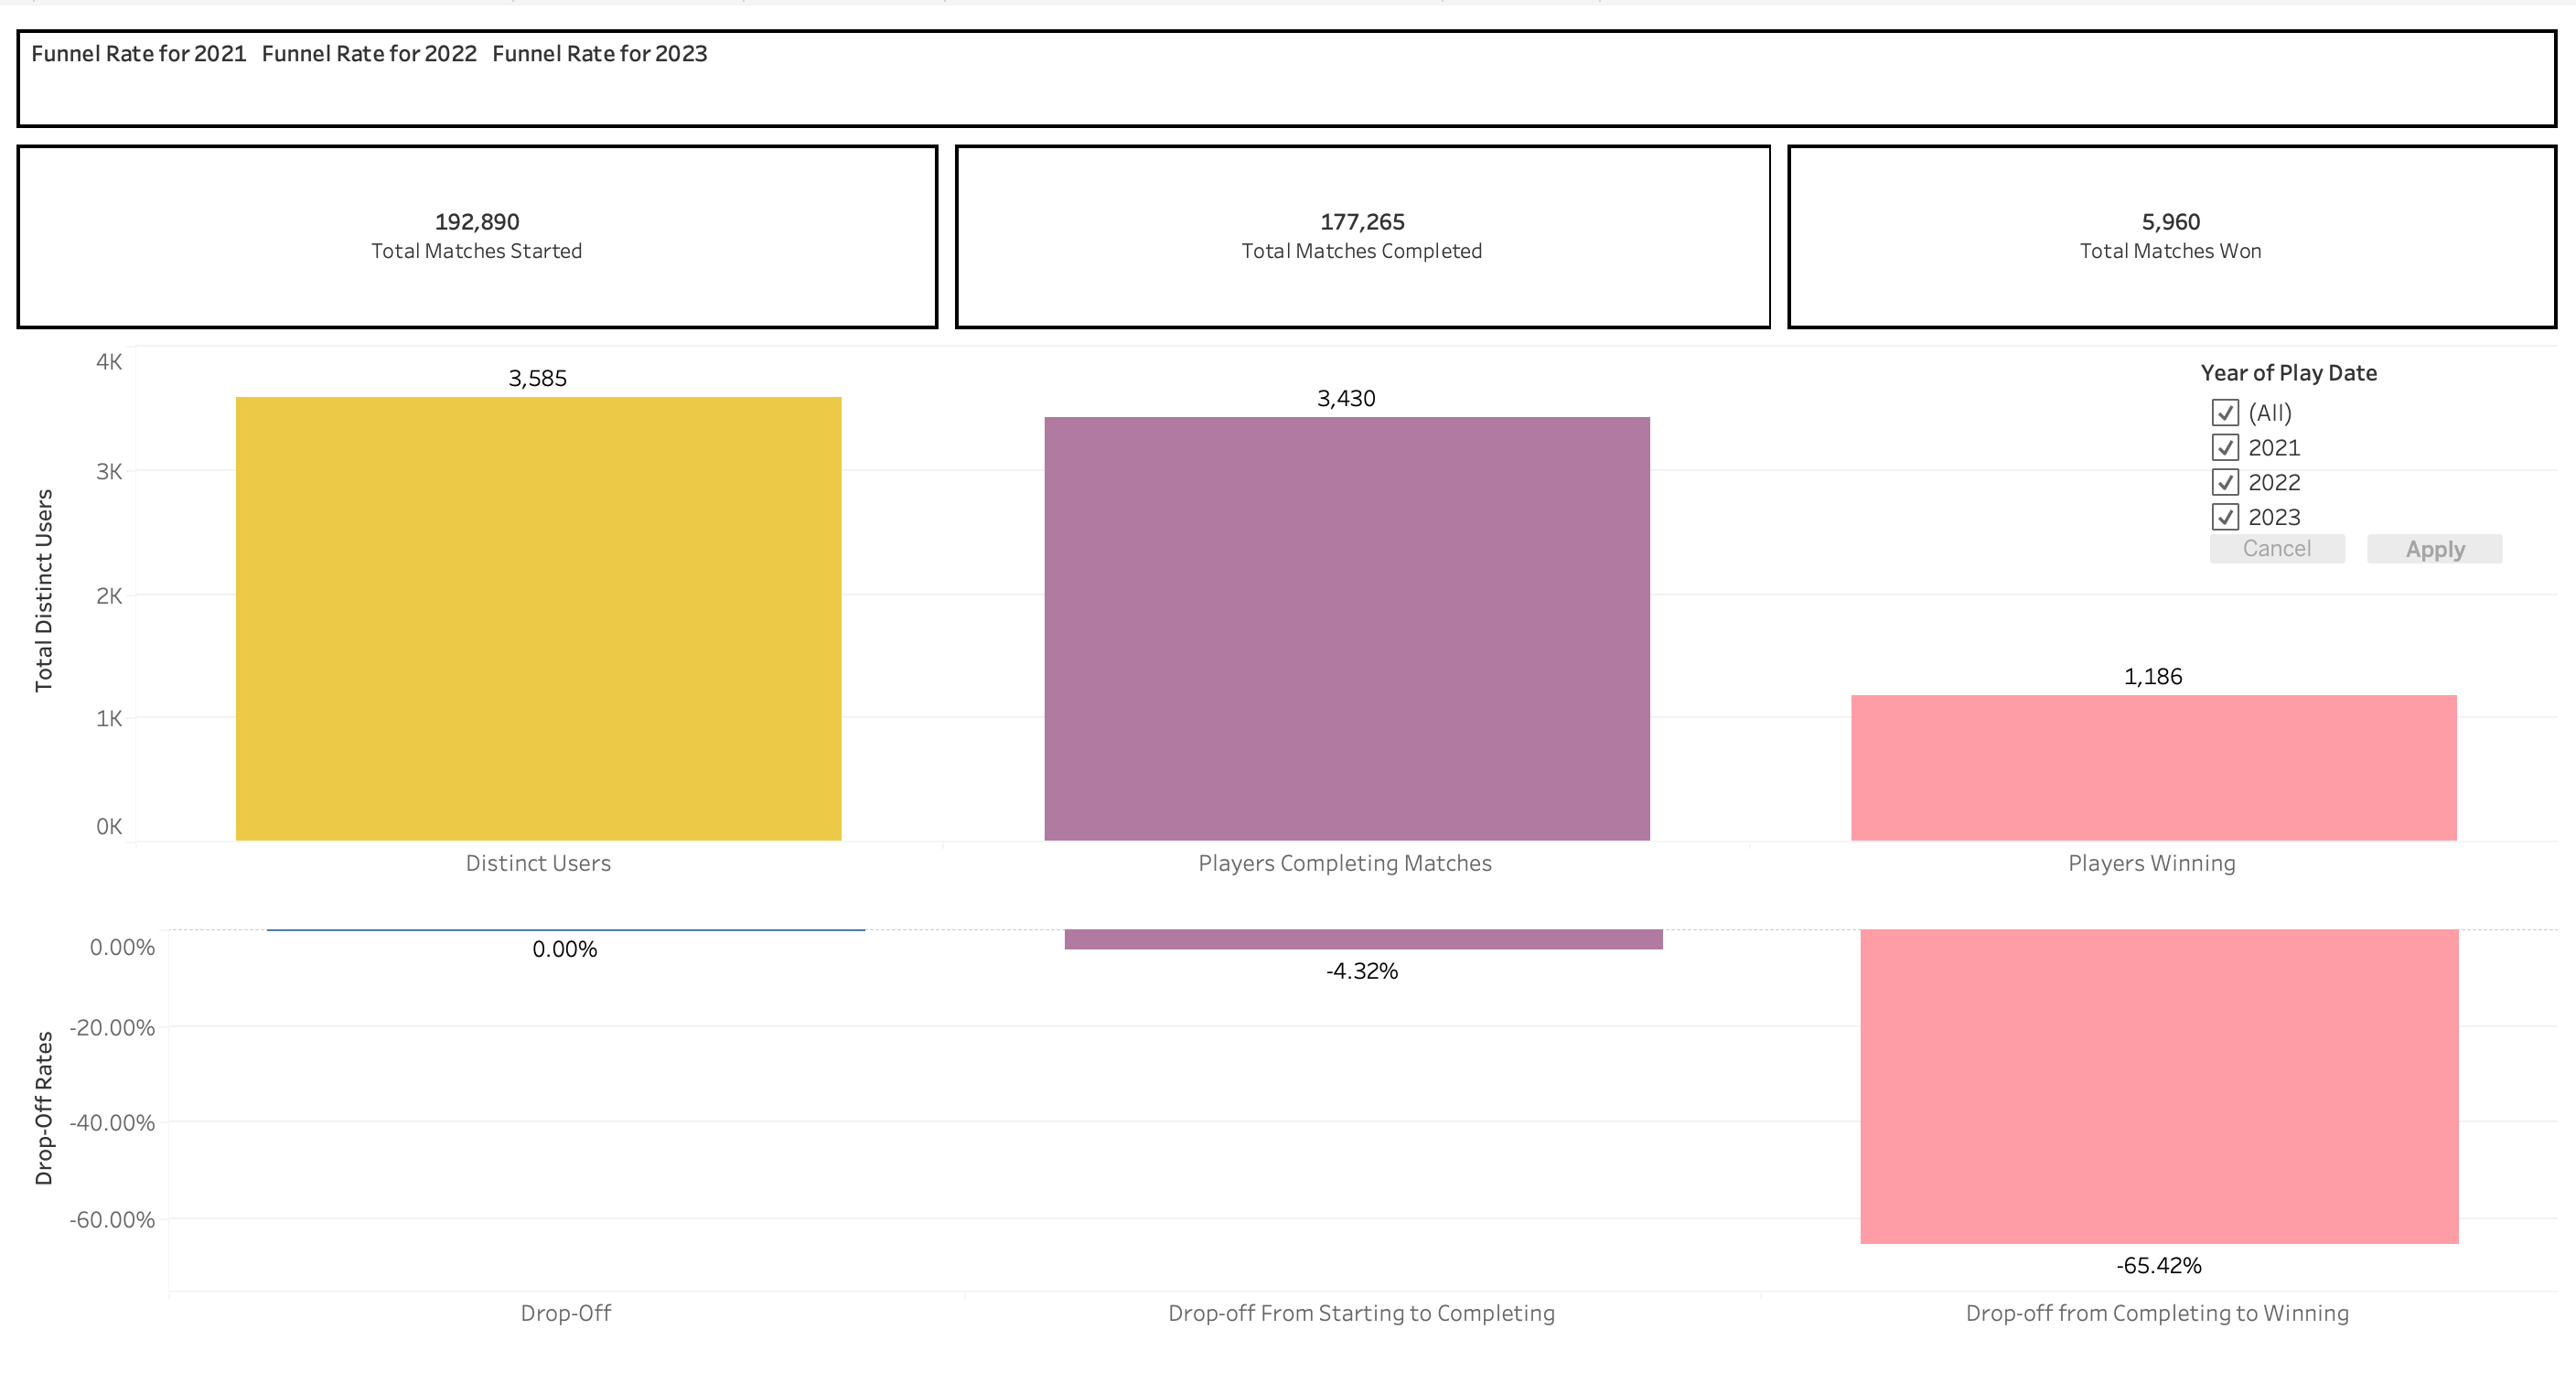

What the dashboard file says about the page in this screenshot:
{"tool":"tableau","page":{"name":"User Journey Funnel Rate","canvas":[1000,1000],"units":"permille","ordinal":4},"visuals":[{"type":"worksheet","title":"Funnel Rates Title","mark":"Automatic","box":[5.7,10.6,988.7,83.4]},{"type":"worksheet","title":"Total Matches Started","mark":"Automatic","box":[5.7,94,362.6,145.7]},{"type":"worksheet","title":"Total Matches Completed","mark":"Automatic","box":[368.2,94,322.2,145.7]},{"type":"worksheet","title":"Total Matches Won","mark":"Automatic","box":[690.4,94,303.9,145.7]},{"type":"worksheet","title":"Distinct User Journey","mark":"Bar","box":[5.7,239.8,988.7,424.4]},{"type":"filter","title":"Distinct User Journey","param":"[federated.145kvsn021he6w137u2wi038xfv4].[yr:PLAY_DATE:ok]","box":[851.1,249,126.1,164.2]},{"type":"worksheet","title":"Drop off Rate User Journey","mark":"Automatic","box":[5.7,664.2,988.7,325.2]}]}

Visuals, with their boxes on the dashboard's canvas, which has no fixed pixel size, in thousandths of its width and height (x1, y1, x2, y2). These are canvas units, not pixel positions in the 2576x1383 screenshot, which may show the page scaled, cropped or inside an application window:
"Funnel Rates Title" worksheet: region(6, 11, 994, 94)
"Total Matches Started" worksheet: region(6, 94, 368, 240)
"Total Matches Completed" worksheet: region(368, 94, 690, 240)
"Total Matches Won" worksheet: region(690, 94, 994, 240)
"Distinct User Journey" worksheet (Bar marks): region(6, 240, 994, 664)
"Distinct User Journey" filter: region(851, 249, 977, 413)
"Drop off Rate User Journey" worksheet: region(6, 664, 994, 989)
